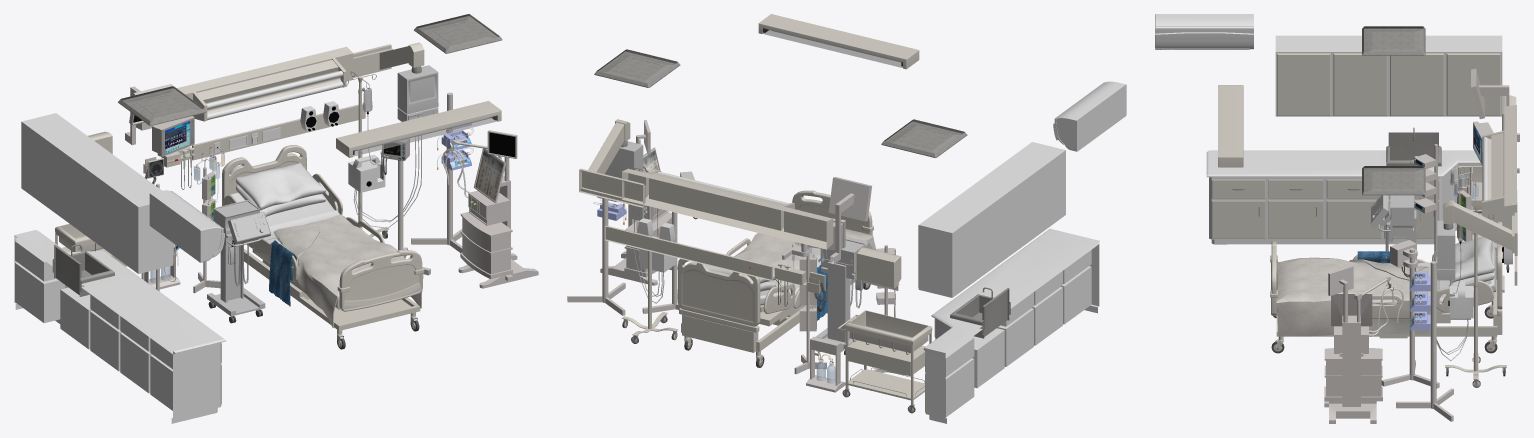
File: HospitalRoomSplit.fbx
3 renders of one model, left to right at view 1: azimuth 30°, elevation 25°; view 2: azimuth 150°, elevation 25°; view 3: azimuth 270°, elevation 25°, orthographic. The views are drawn at different scales.
Parts seen in each view (by area): view 1: BottomCupboards, HospitalBed, TopCupboards, Machine7, BackboardLights, Drip, Machine1, CeilingLight, AirCon, BackBoard, CeilingVent1, CeilingVent2 (+7 smaller); view 2: BottomCupboards, TopCupboards, HospitalBed, BackboardLights, CrashCart, Drip, CeilingLight, AirCon, BackBoard, Machine1, Machine7, CeilingVent1 (+10 smaller); view 3: BottomCupboards, TopCupboards, HospitalBed, Machine7, Drip, AirCon, BackboardLights, Machine6, CeilingLight, CeilingVent1, CeilingVent2, Machine1 (+6 smaller).
Part boxes in pixels (box(x1,y1,x2,y2)): BottomCupboards: box(14, 230, 226, 423); HospitalBed: box(222, 145, 424, 349); TopCupboards: box(21, 113, 173, 273); Machine7: box(442, 130, 538, 288); BackboardLights: box(136, 46, 353, 130); Drip: box(344, 42, 438, 238); Machine1: box(207, 200, 270, 323); CeilingLight: box(336, 101, 501, 157); AirCon: box(149, 190, 224, 262); BackBoard: box(192, 101, 365, 160); CeilingVent1: box(118, 86, 206, 125); CeilingVent2: box(414, 14, 502, 53); BottomCupboards: box(923, 228, 1099, 423); TopCupboards: box(918, 142, 1065, 297); HospitalBed: box(678, 190, 875, 367); BackboardLights: box(622, 168, 833, 249); CrashCart: box(837, 310, 932, 413); Drip: box(579, 119, 678, 343); CeilingLight: box(758, 14, 919, 69); AirCon: box(1053, 81, 1126, 151); BackBoard: box(604, 218, 772, 280); Machine1: box(815, 236, 872, 354); Machine7: box(600, 120, 677, 285); CeilingVent1: box(881, 119, 967, 157); BottomCupboards: box(1206, 127, 1482, 244); TopCupboards: box(1275, 35, 1502, 116); HospitalBed: box(1270, 221, 1502, 353); Machine7: box(1324, 265, 1403, 423); Drip: box(1436, 200, 1517, 387); AirCon: box(1155, 14, 1253, 49); BackboardLights: box(1482, 105, 1516, 229); Machine6: box(1396, 261, 1453, 421); CeilingLight: box(1218, 85, 1243, 167); CeilingVent1: box(1362, 26, 1425, 55); CeilingVent2: box(1362, 166, 1425, 195); Machine1: box(1370, 195, 1416, 251).
Size of the model in its own units: 582 by 300 by 444.
